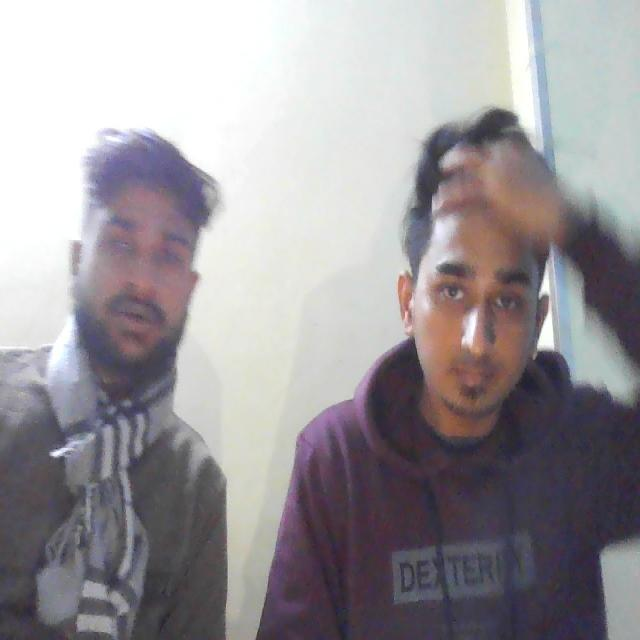real: (391, 127, 561, 448), (75, 139, 201, 376)
